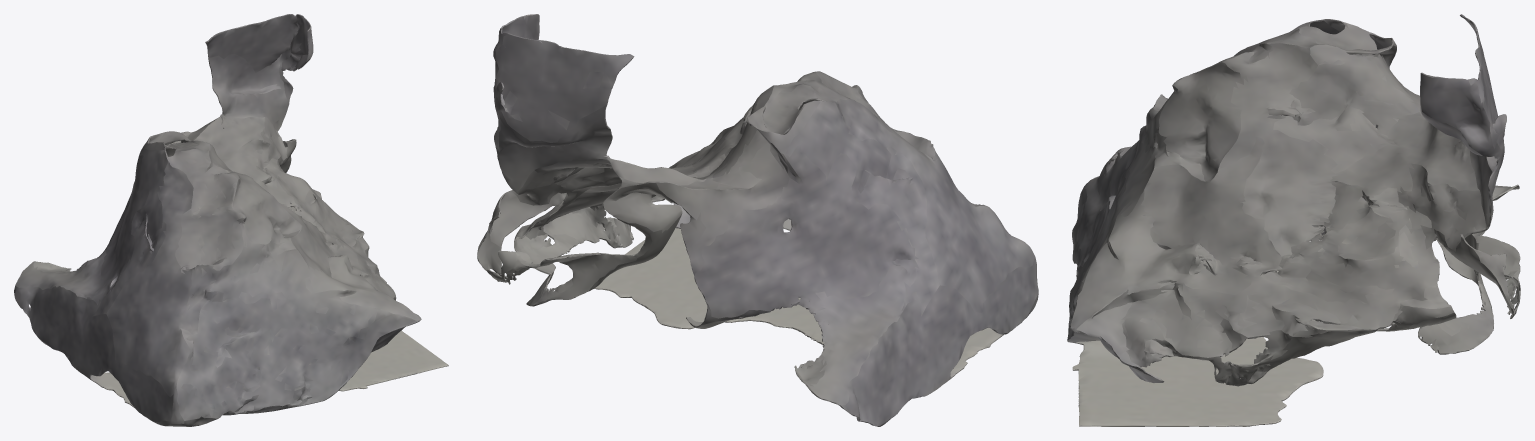
3 renders of one model, left to right at view 1: azimuth 30°, elevation 25°; view 2: azimuth 150°, elevation 25°; view 3: azimuth 270°, elevation 25°, orthographic. The views are drawn at different scales.
Visible parts, largest first — view 1: world; view 2: world; view 3: world.
Boxes of the visible parts, left/top/right/bottom form: world: left=14, top=14, right=448, bottom=426; world: left=477, top=14, right=1038, bottom=426; world: left=1067, top=14, right=1520, bottom=426.
Bounding box in the file's own units: 0.35 × 0.294 × 0.3505.
1 material, 1 textured.
